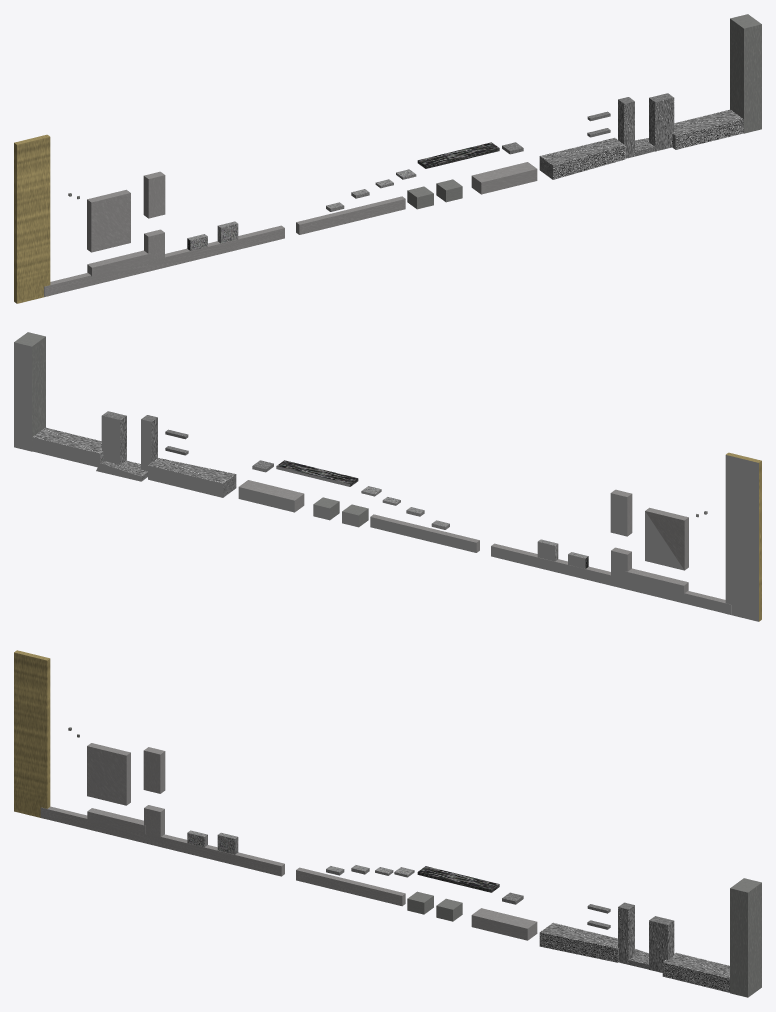
The model's file is stage2.fbx.
3 renders of one model, top to bottom at view 1: azimuth 30°, elevation 25°; view 2: azimuth 150°, elevation 25°; view 3: azimuth 330°, elevation 25°, orthographic.
Visible parts, largest first — view 1: polySurface64, polySurface65, polySurface318, polySurface317, polySurface50, polySurface24, polySurface280, polySurface281, polySurface295, polySurface305, polySurface304, polySurface278 (+6 smaller); view 2: polySurface85, polySurface86, polySurface288, polySurface289, polySurface21, polySurface20, polySurface301, polySurface302, polySurface295, polySurface325, polySurface326, polySurface296 (+5 smaller); view 3: polySurface64, polySurface65, polySurface318, polySurface317, polySurface24, polySurface50, polySurface281, polySurface280, polySurface298, polySurface297, polySurface304, polySurface139 (+3 smaller).
Part boxes in pixels (x1,y1,x2,y2): polySurface64: (17,137,50,285); polySurface65: (17,145,48,303); polySurface318: (44,239,281,296); polySurface317: (47,228,284,286); polySurface50: (91,203,130,252); polySurface24: (91,193,130,242); polySurface280: (744,24,761,127); polySurface281: (744,30,761,133); polySurface295: (730,18,743,132); polySurface305: (299,209,404,234); polySurface304: (301,199,405,224); polySurface278: (675,132,743,149); polySurface85: (725,456,758,621); polySurface86: (725,455,758,620); polySurface288: (491,546,726,613); polySurface289: (493,546,731,614); polySurface21: (645,511,684,570); polySurface20: (645,511,684,570); polySurface301: (14,343,31,451); polySurface302: (14,342,31,450); polySurface295: (32,336,45,428); polySurface325: (370,517,474,552); polySurface326: (372,517,476,552); polySurface296: (32,348,43,451); polySurface64: (14,652,47,808); polySurface65: (14,653,44,818); polySurface318: (40,807,277,875); polySurface317: (44,808,281,876); polySurface24: (87,746,126,805); polySurface50: (87,746,125,805); polySurface281: (730,889,747,997); polySurface280: (730,888,747,995); polySurface298: (748,893,761,997); polySurface297: (748,883,761,985); polySurface304: (298,870,402,905); polySurface139: (539,932,616,962).
Bounding box in the file's own units: 146 × 30.39 × 6.
